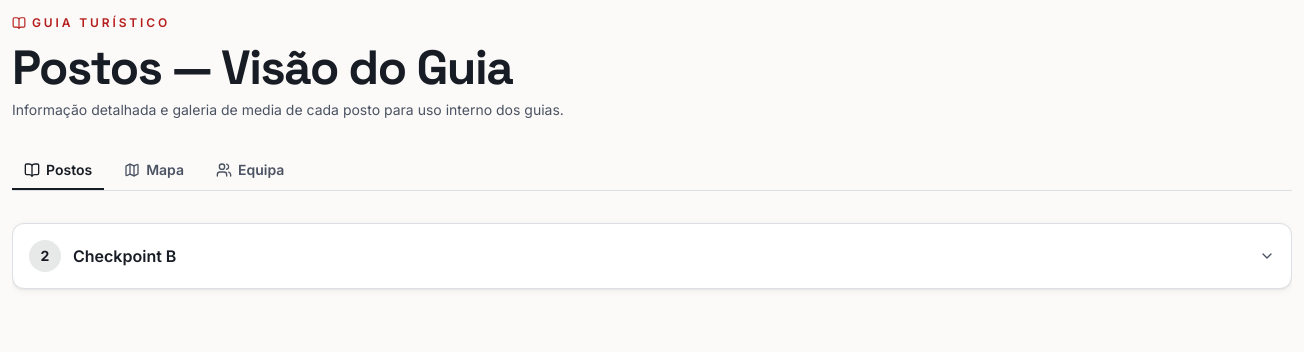
Scenario: GuidePage › renders media empty state when a checkpoint has no media
This screenshot has width=1304, height=352.
Click the text "Checkpoint B": click(125, 256) [73,246,176,266]
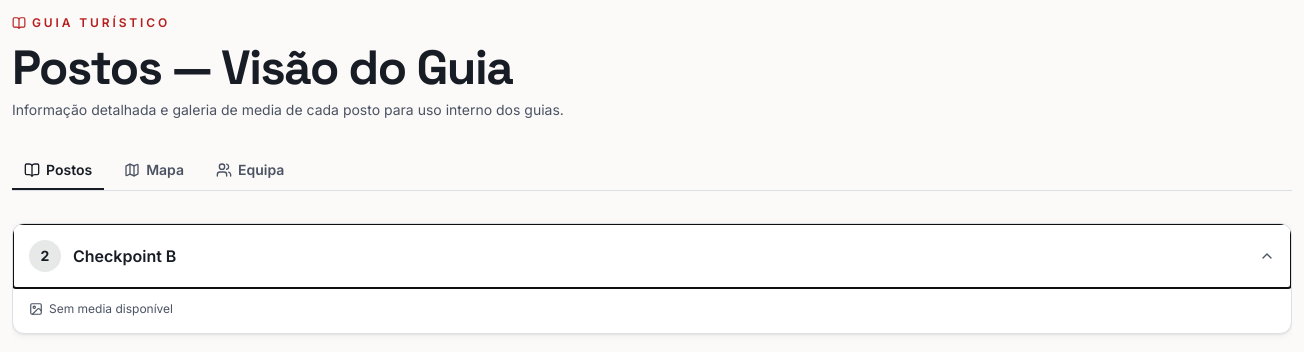
Expected: the text "Sem media disponível" is shown, [29,301,173,316]
